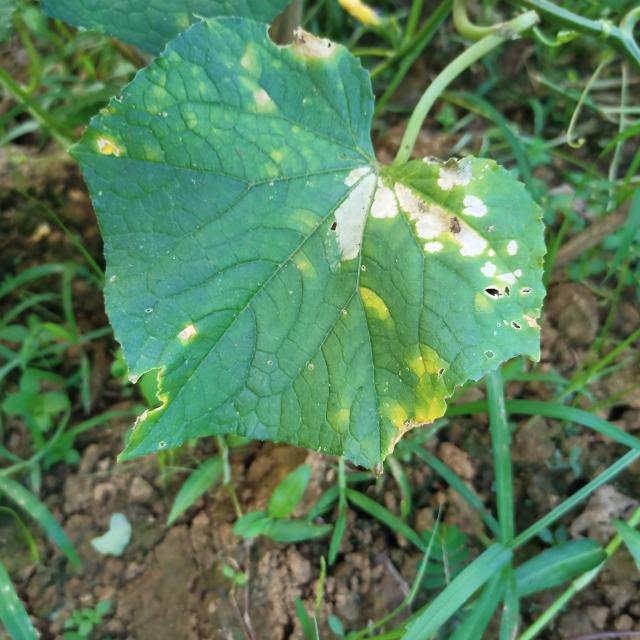disease_cucumber: (330, 156, 537, 298), (227, 46, 290, 149), (379, 341, 448, 428), (354, 284, 397, 325)
